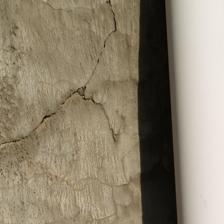Crack: (88, 0, 150, 90), (25, 37, 99, 84)
